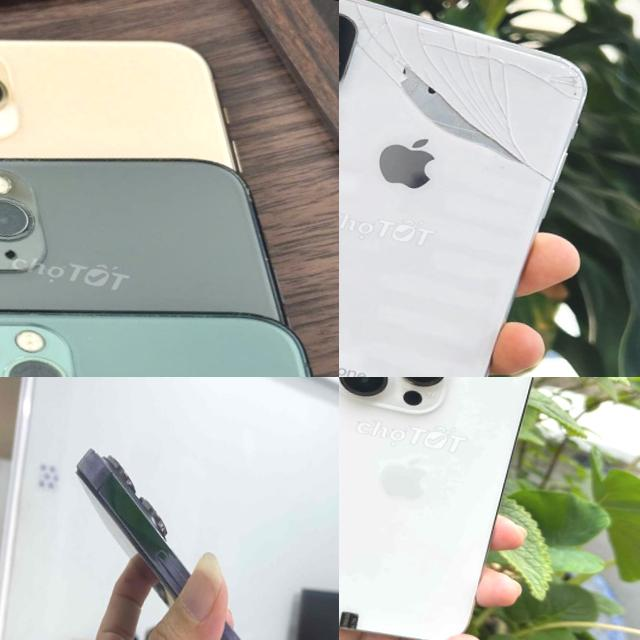physical_damage: (410, 18, 590, 108), (369, 60, 488, 136), (472, 120, 574, 200), (339, 0, 427, 66), (419, 116, 488, 161)
